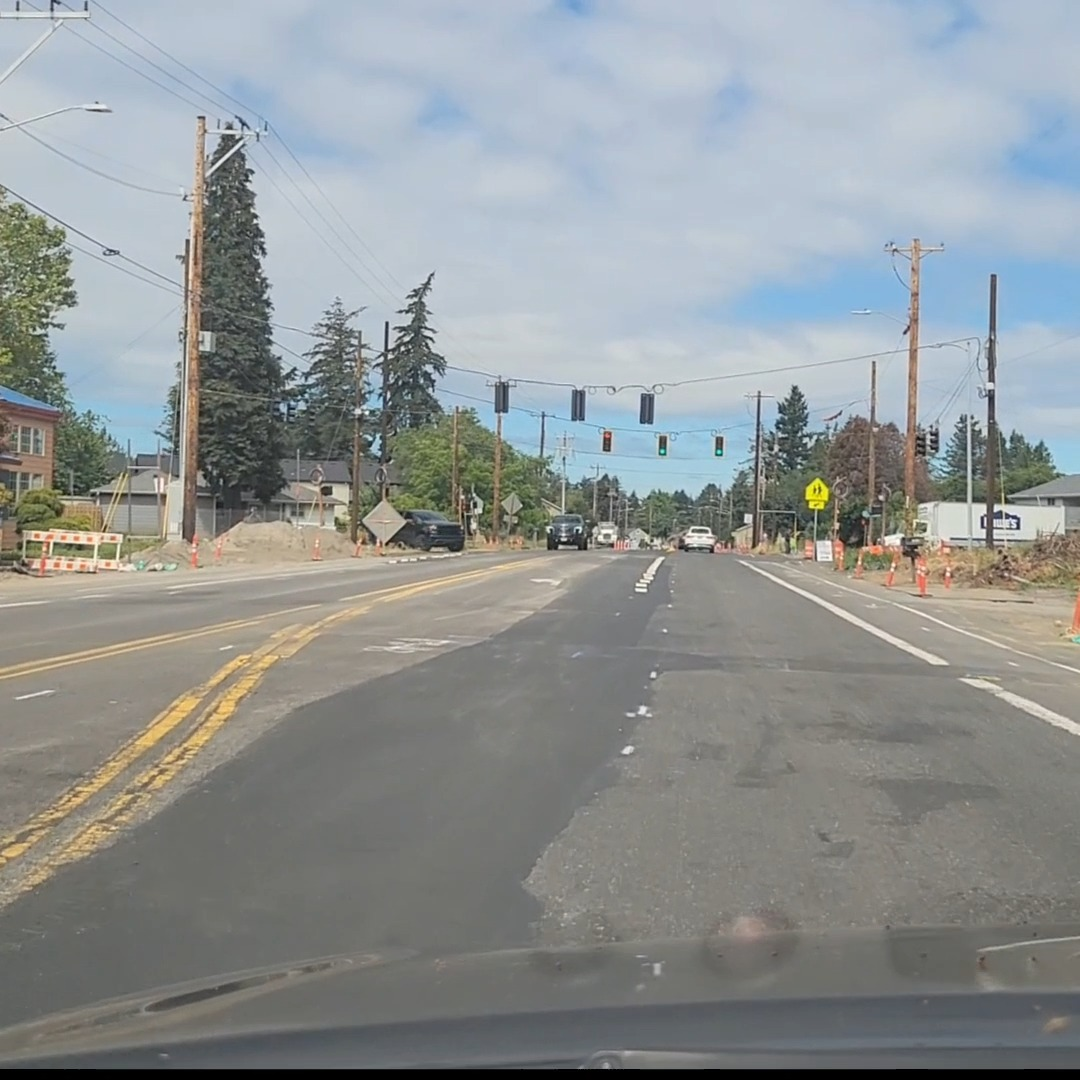car: (386, 509, 463, 552), (545, 513, 589, 549), (677, 525, 718, 552), (593, 520, 618, 547)
crosswalk-sign: (804, 477, 829, 510)
delineator: (37, 542, 49, 576), (916, 564, 928, 596), (853, 546, 865, 578), (189, 537, 200, 568), (885, 557, 896, 586), (214, 536, 224, 563), (311, 536, 322, 560), (353, 535, 364, 558), (943, 564, 951, 589), (374, 537, 383, 556), (941, 543, 950, 555)
